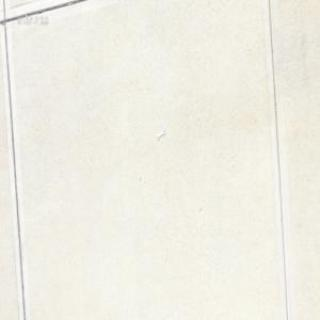Wrenchtrack_idkeyframe: (155, 130, 164, 140)
